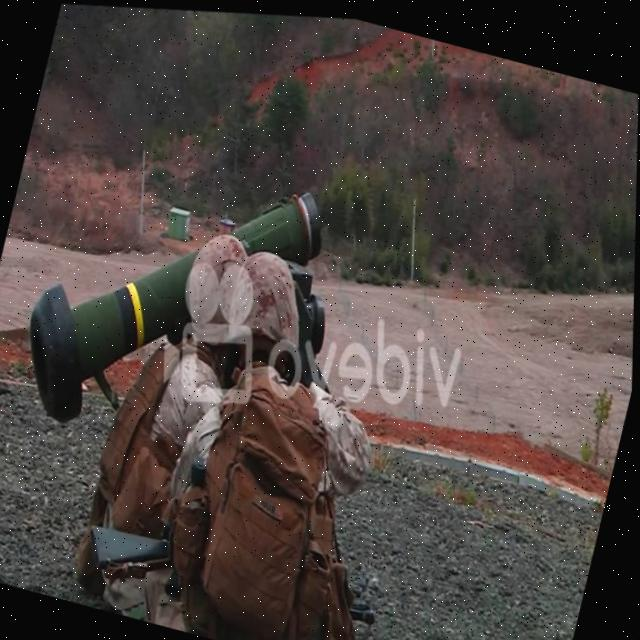rocket: (0, 117, 367, 489)
